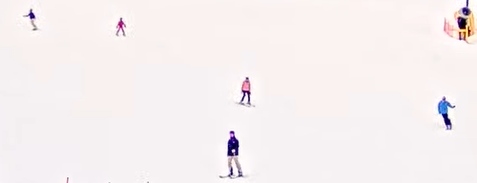skier: (212, 128, 252, 181), (431, 93, 462, 132), (233, 74, 257, 109), (111, 16, 130, 38)
